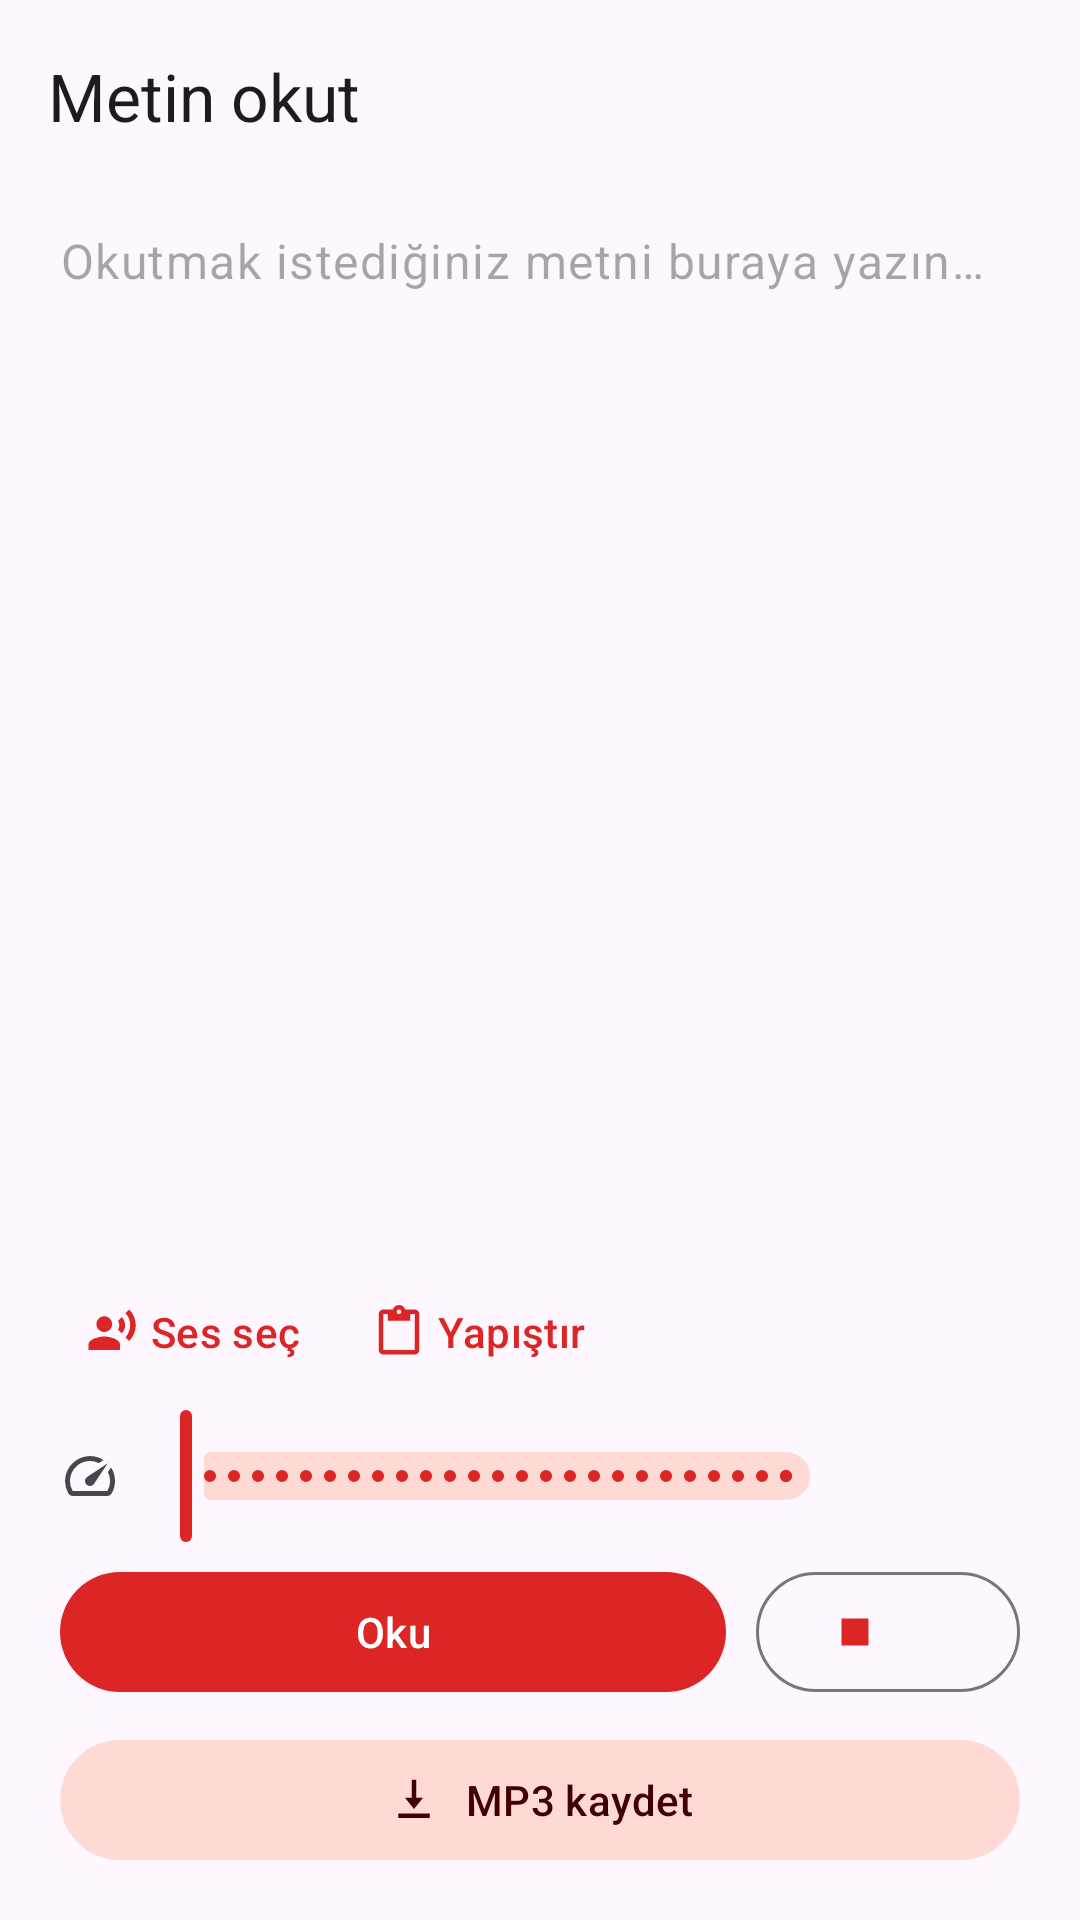

Where icons sit on this 1080px×1920px app screen, as (x1, y1, x2, y2):
Durdur: (756, 1572, 1020, 1692)
Hız: (65, 1456, 115, 1496)
